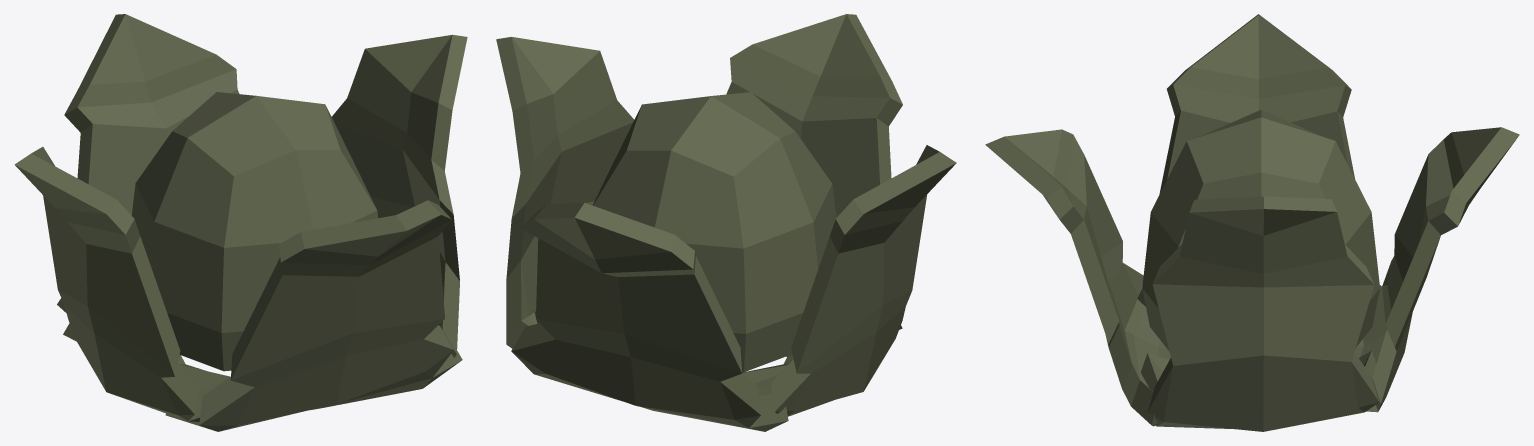
File: Lettuce_3.gltf
3 views of the same model, side by side, from view 1: azimuth 30°, elevation 25°; view 2: azimuth 150°, elevation 25°; view 3: azimuth 270°, elevation 25° (orthographic). The views are drawn at different scales.
Visible parts, largest first — view 1: Lettuce_3; view 2: Lettuce_3; view 3: Lettuce_3.
Part boxes in pixels (<box>): Lettuce_3: <box>14,14,467,431</box>; Lettuce_3: <box>496,14,956,431</box>; Lettuce_3: <box>985,14,1519,431</box>.
Size of the model in its own units: 0.6232 by 0.3816 by 0.6764.
